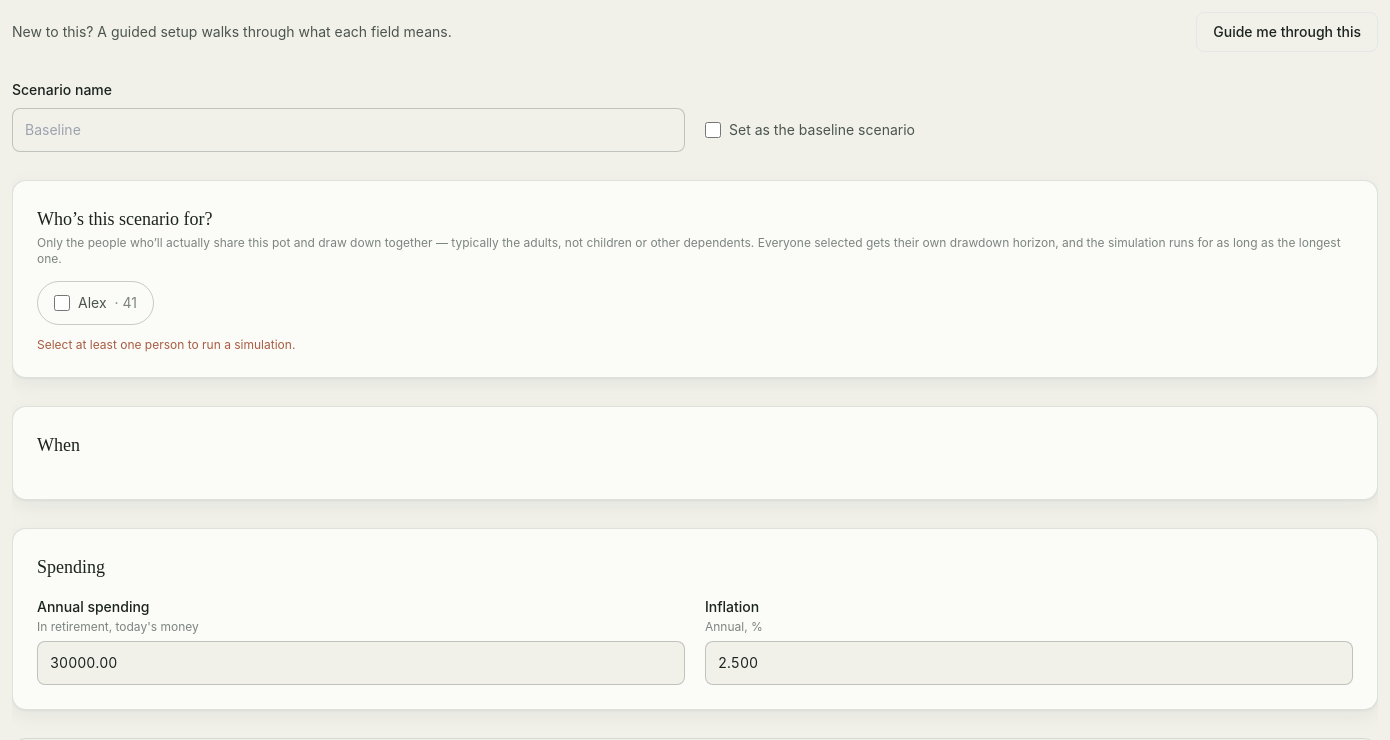
Test: ScenarioEditorForm › guided wizard › opens at the intro step, steps through Back/Next, and gates past the people step until someone is selected
The image size is (1390, 740).
Click the button "Guide me through this": (1287,32) [1196,12,1378,52]
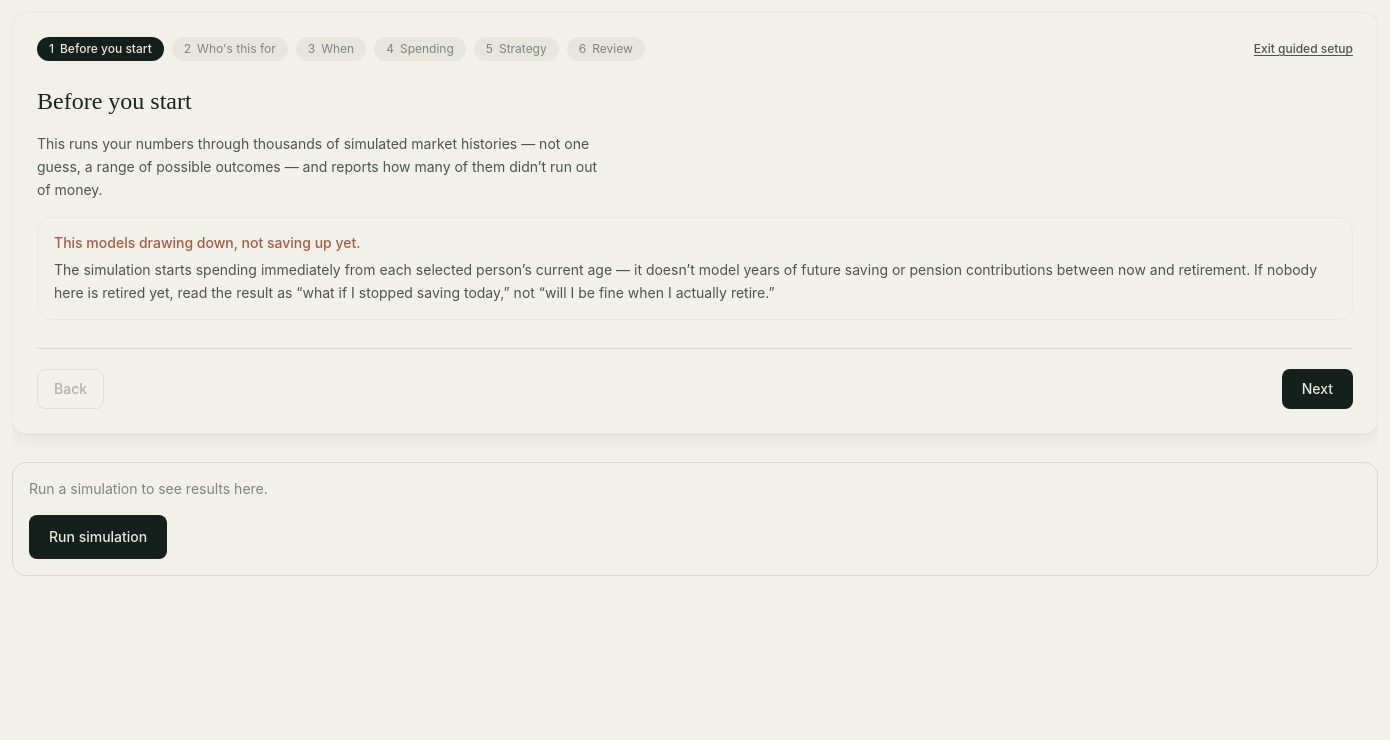
Result: the text "This models drawing down, not saving up yet." is shown at [54,234,360,251]
Click the button "Next": (1317,388) [1282,368,1353,408]
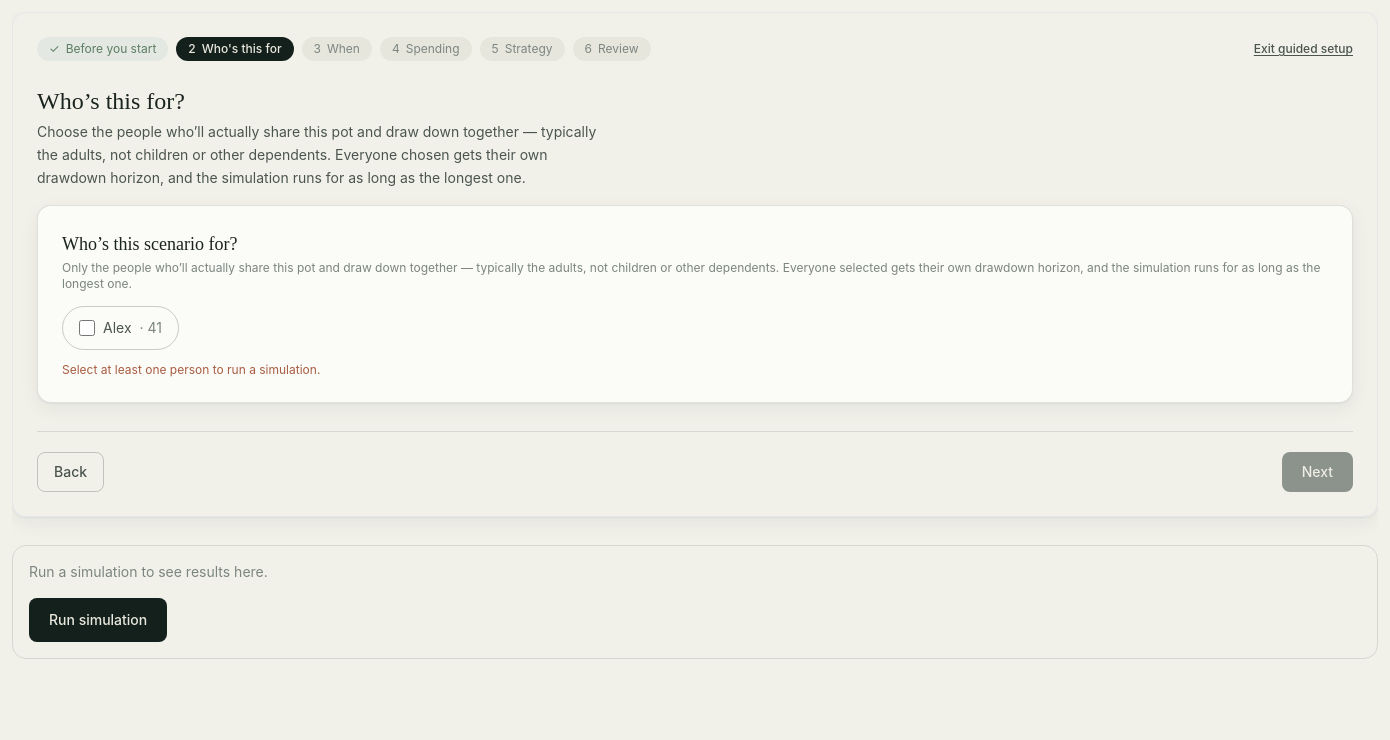
Result: the heading "Who’s this for?" is shown at [37,88,185,114]
Result: the button "Next" is disabled at [1282,452,1353,492]
Click the checkbox labelled "Alex · 41": (87,328) [79,320,95,336]
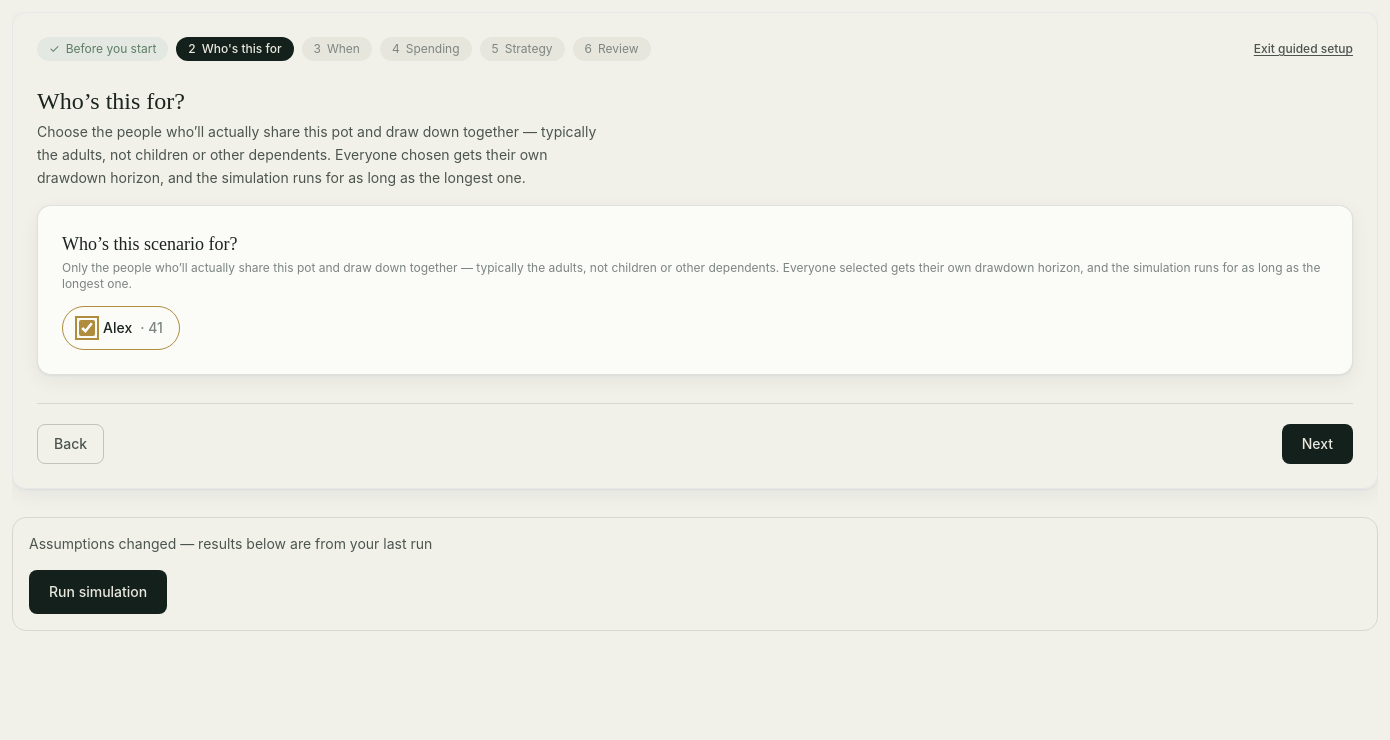
Result: the button "Next" is enabled
Click the button "Next": (1317,444) [1282,424,1353,464]
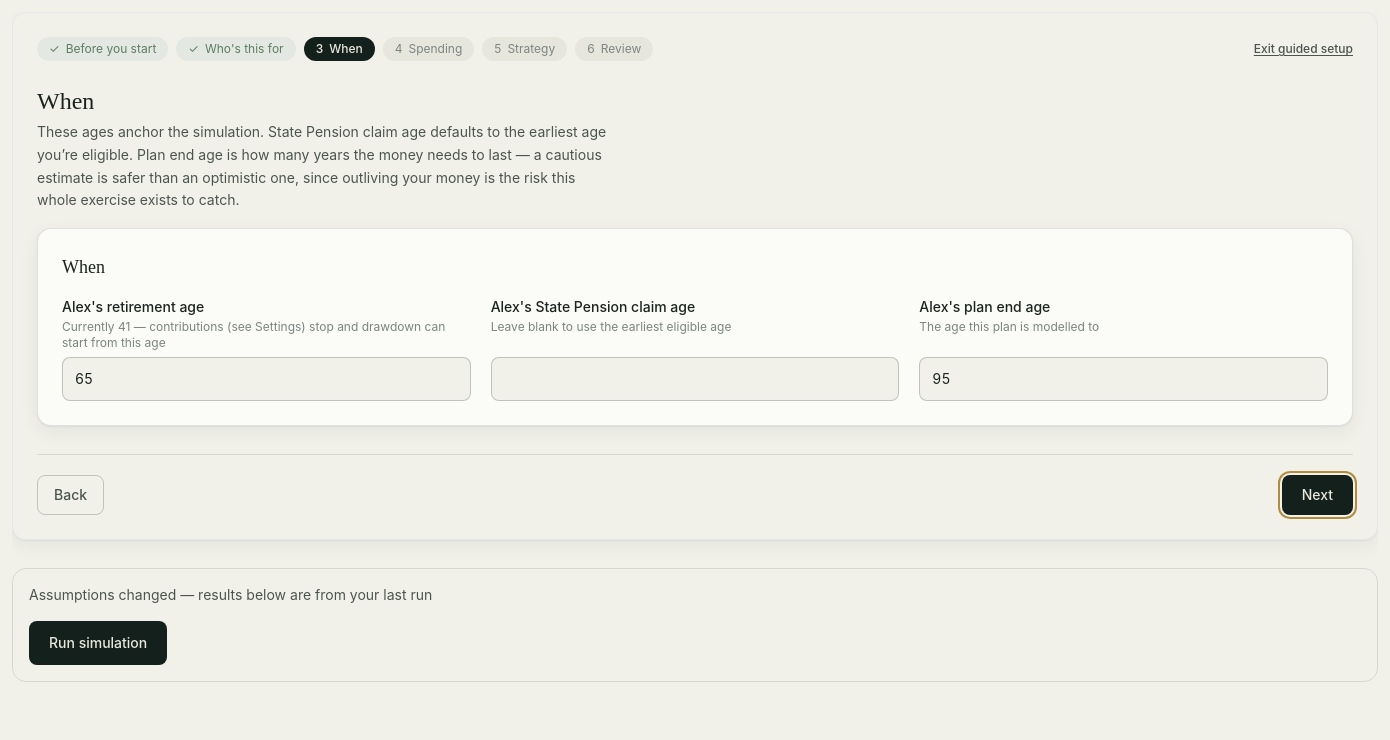
Result: the text "These ages anchor the simulation." is shown at [37,123,606,208]
Click the button "Back": (71,495) [37,475,104,515]
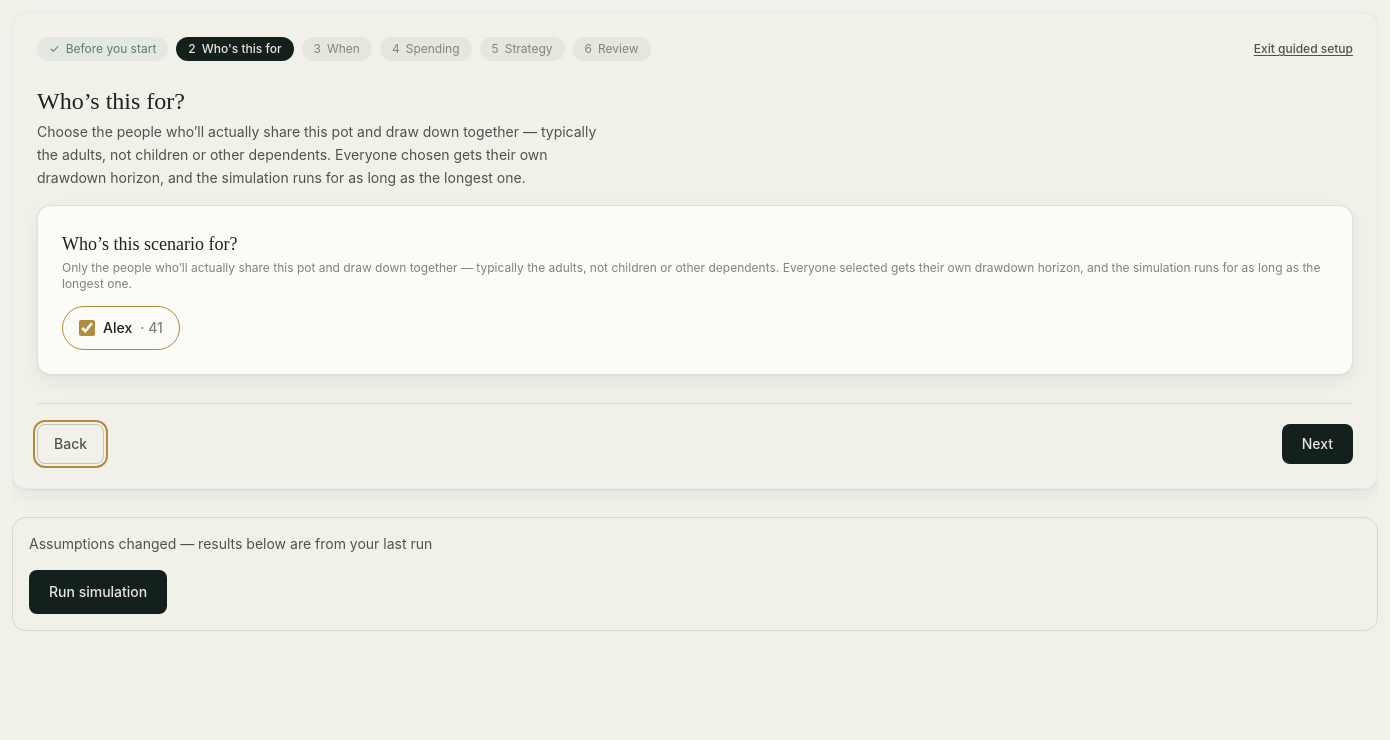
Result: the heading "Who’s this for?" is shown at [37,88,185,114]
